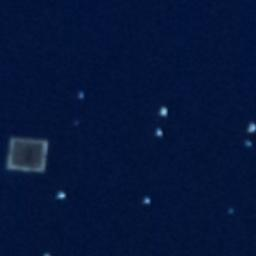square_cover: (4, 131, 52, 175)
